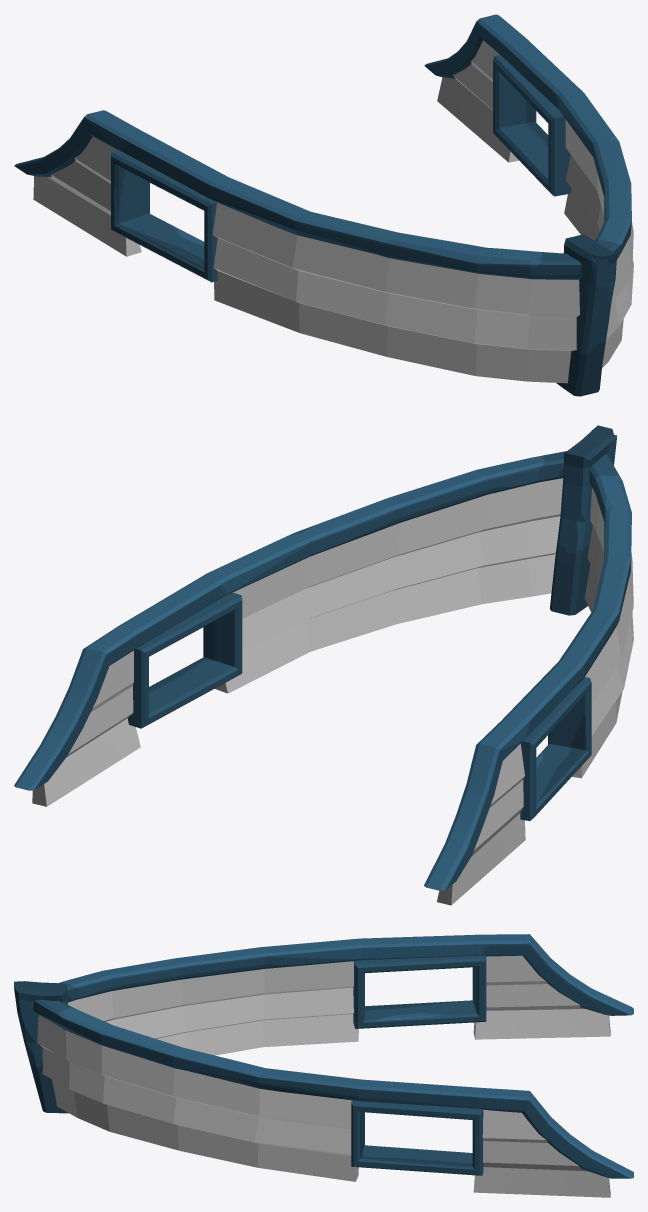
The model's file is SM_Veh_Ship_M_Front_01.fbx.
3 renders of one model, top to bottom at view 1: azimuth 30°, elevation 25°; view 2: azimuth 150°, elevation 25°; view 3: azimuth 270°, elevation 25°, orthographic. The views are drawn at different scales.
Parts seen in each view (by area): view 1: SM_Veh_Ship_M_Front_01; view 2: SM_Veh_Ship_M_Front_01; view 3: SM_Veh_Ship_M_Front_01.
Boxes of the visible parts, x1,y1,x2,y2 form: SM_Veh_Ship_M_Front_01: (14,14,633,396); SM_Veh_Ship_M_Front_01: (14,425,633,905); SM_Veh_Ship_M_Front_01: (14,934,633,1197).
Bounding box in the file's own units: 664 × 235 × 1013.
